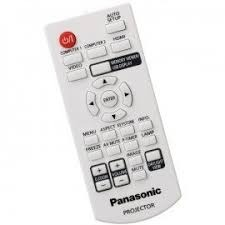remote control: (32, 6, 185, 225)
